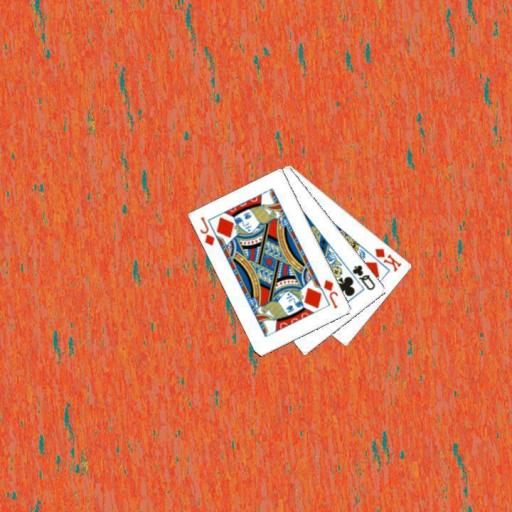card-corner: (372, 245, 403, 273), (349, 262, 377, 292), (197, 214, 216, 248), (321, 277, 340, 310)
